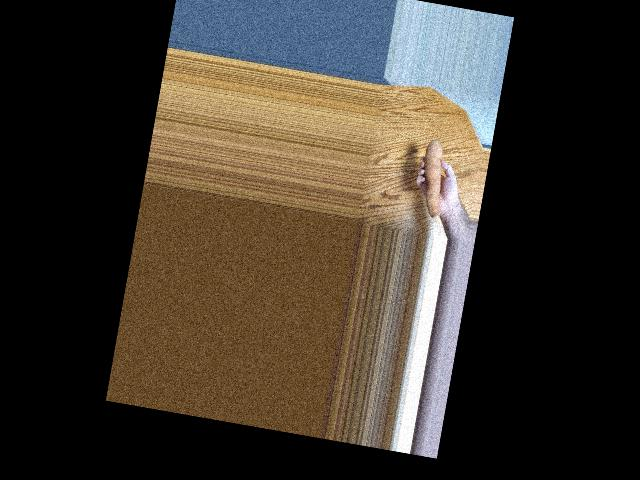sweet_potato: (410, 137, 452, 214)
